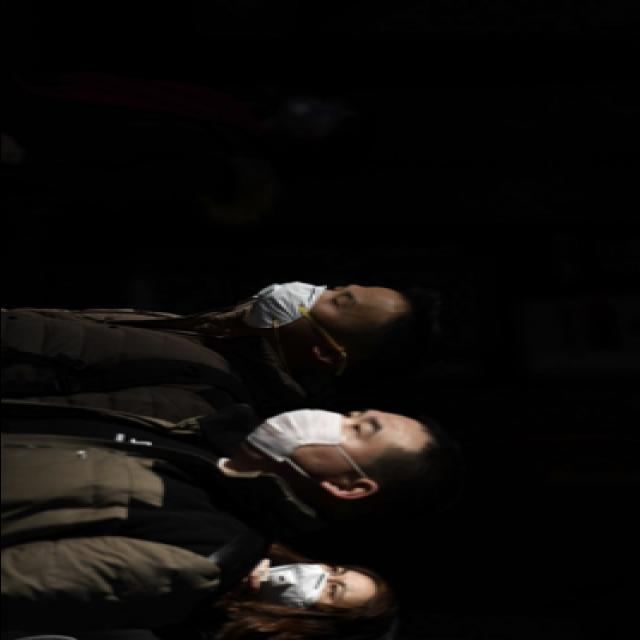mask: (250, 408, 388, 464), (249, 283, 367, 331), (256, 562, 354, 606)
